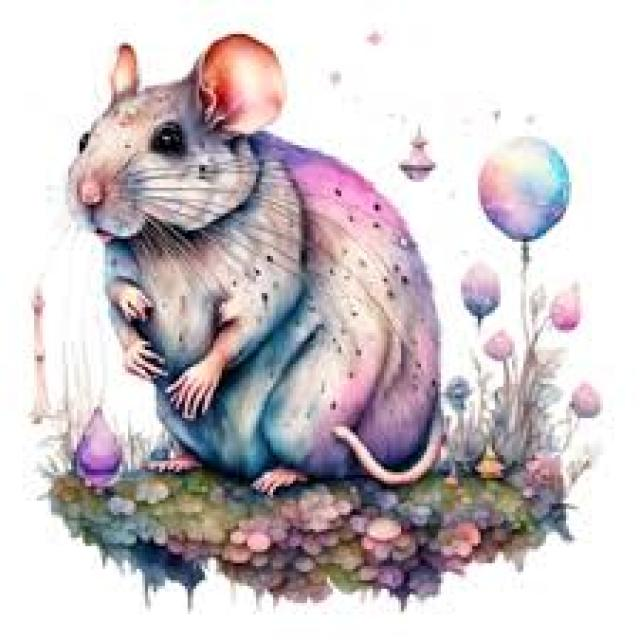rat: (62, 31, 446, 495)
